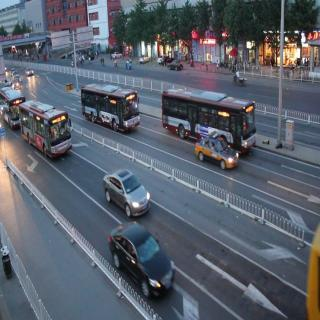BigCar: (161, 80, 258, 146), (80, 78, 142, 136), (19, 99, 74, 159), (1, 88, 24, 134)
Car: (109, 220, 178, 302), (103, 168, 153, 218), (194, 133, 240, 175), (168, 59, 183, 76), (24, 67, 34, 77)
